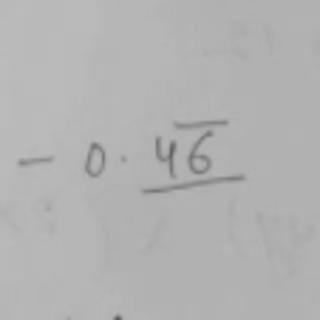.: (117, 151, 129, 166)
0: (81, 143, 106, 178)
4: (151, 132, 178, 177)
6: (187, 131, 216, 175)
